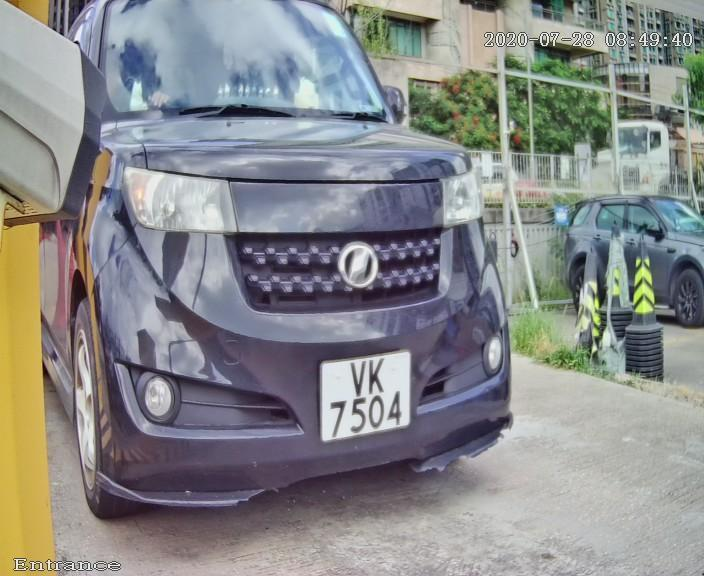privatecar: (13, 13, 601, 538)
